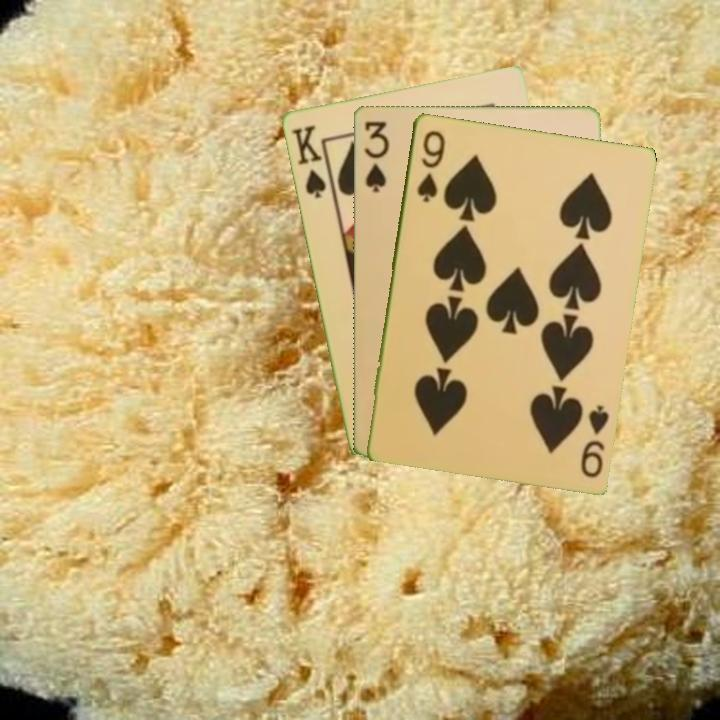3s: (360, 118, 391, 195)
9s: (576, 400, 612, 480), (413, 126, 448, 205)
Ks: (288, 121, 334, 201)
